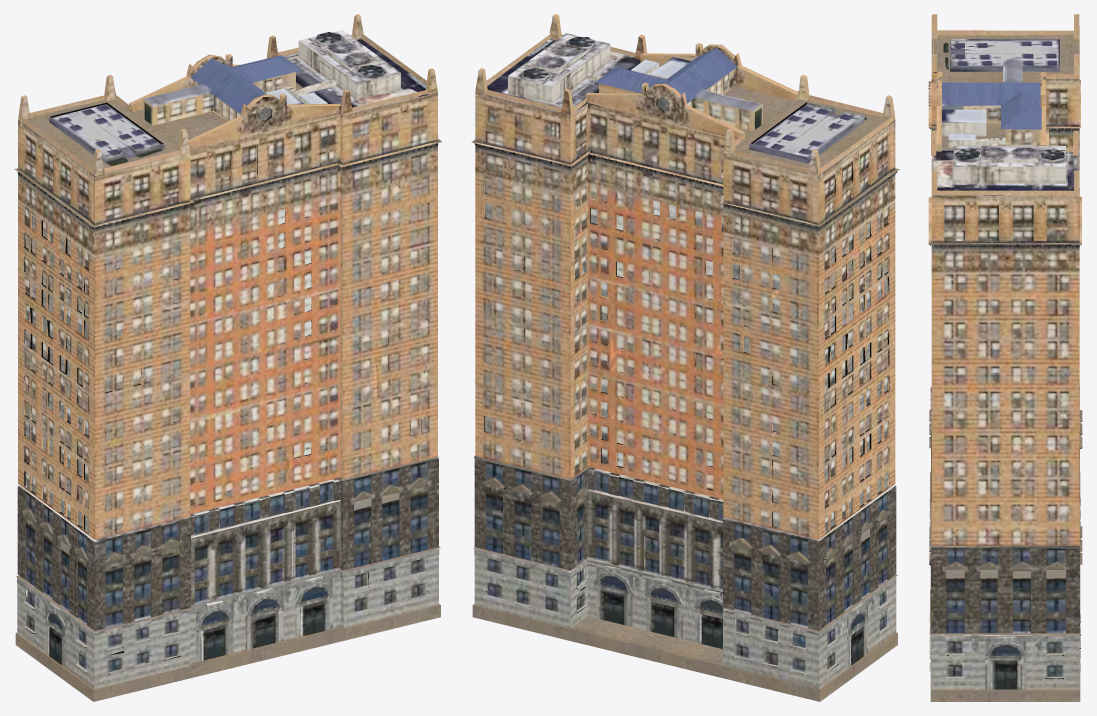
File: whitehall.glb
The picture shows the model from 3 angles, left to right: view 1: azimuth 30°, elevation 25°; view 2: azimuth 150°, elevation 25°; view 3: azimuth 270°, elevation 25°; orthographic projection. The views are drawn at different scales.
Visible parts, largest first — view 1: Body; view 2: Body; view 3: Body.
Boxes of the visible parts, bbox=[...] form: Body: bbox=[14, 14, 441, 701]; Body: bbox=[471, 14, 899, 701]; Body: bbox=[928, 14, 1082, 701].
Bounding box in the file's own units: 52.17 × 80.07 × 20.71.
1 material, 1 textured.
